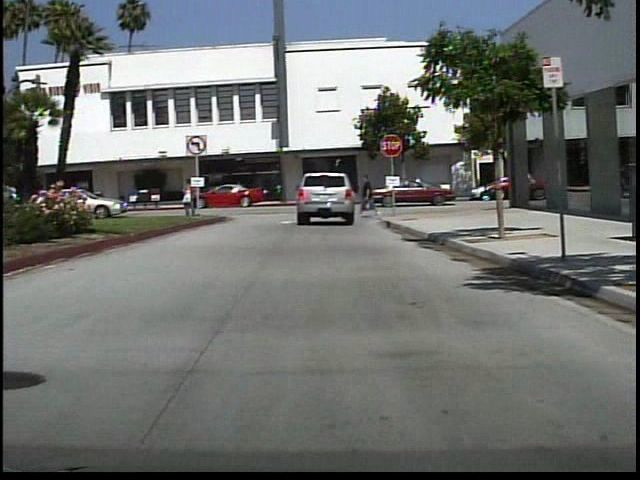person: (175, 175, 205, 219), (359, 173, 383, 220), (231, 178, 247, 203)
